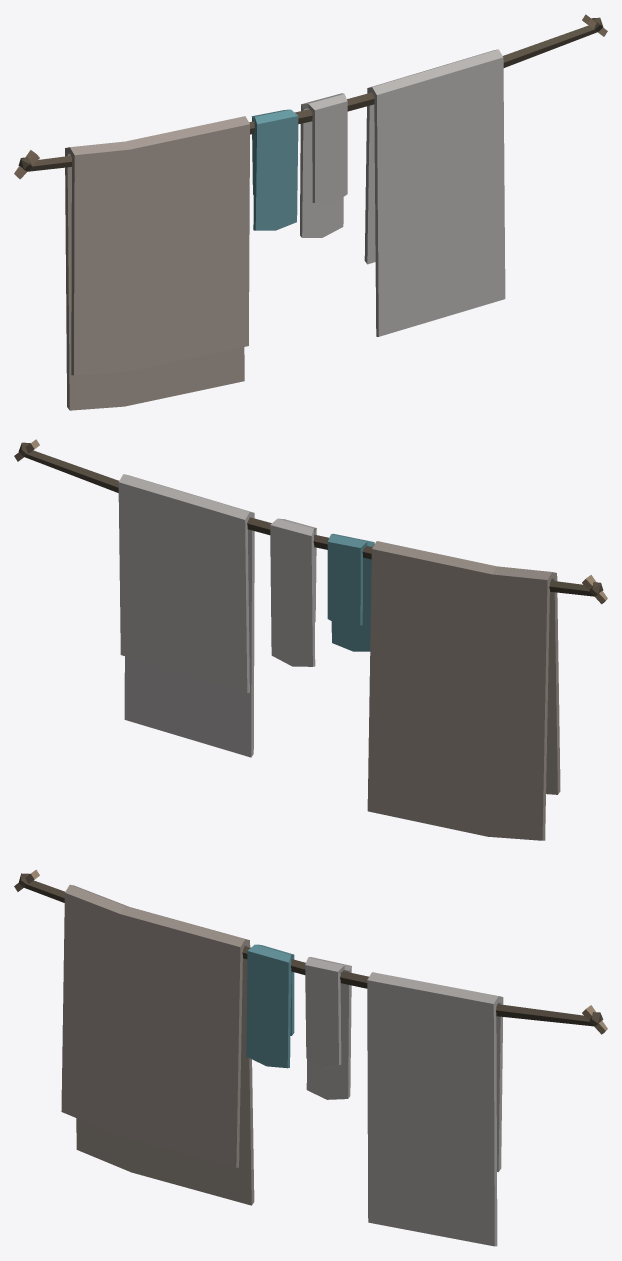
Rendered from SM_Prop_Washingline_Small_01.fbx.
The picture shows the model from 3 angles, top to bottom: view 1: azimuth 30°, elevation 25°; view 2: azimuth 150°, elevation 25°; view 3: azimuth 330°, elevation 25°; orthographic projection.
Parts seen in each view (by area): view 1: SM_Prop_Washingline_Small_01; view 2: SM_Prop_Washingline_Small_01; view 3: SM_Prop_Washingline_Small_01.
Part boxes in pixels (x1,y1,x2,y2): SM_Prop_Washingline_Small_01: (14,14,607,410); SM_Prop_Washingline_Small_01: (14,439,607,840); SM_Prop_Washingline_Small_01: (14,869,607,1246).
Size of the model in its own units: 396 by 182 by 14.34.
